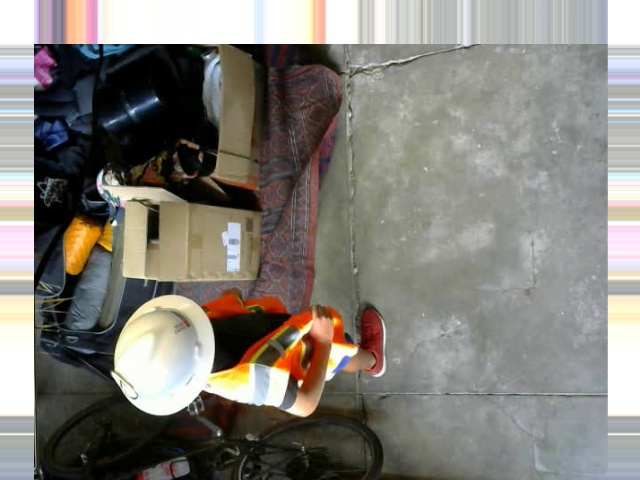one: (110, 370, 138, 399)
